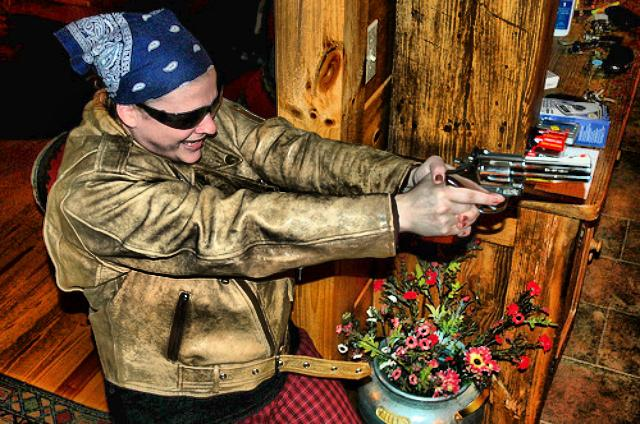pistol: (422, 152, 588, 244)
